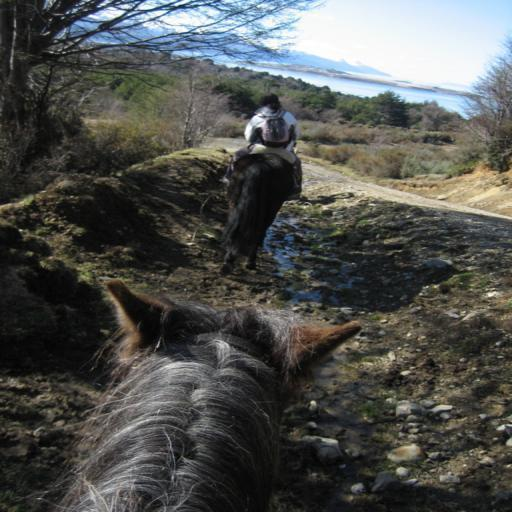horse: (30, 278, 367, 512), (219, 154, 296, 278)
